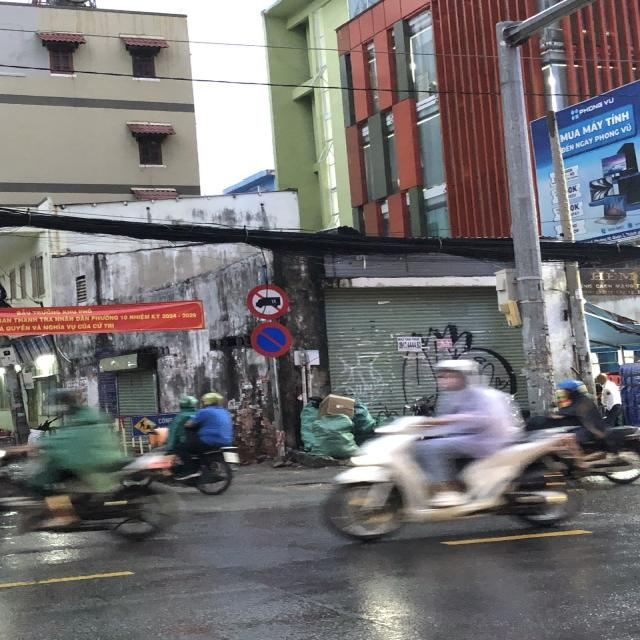Bien bao cam do xe: (247, 319, 294, 359)
Bien bao cam xe oto tai: (244, 281, 291, 321)
